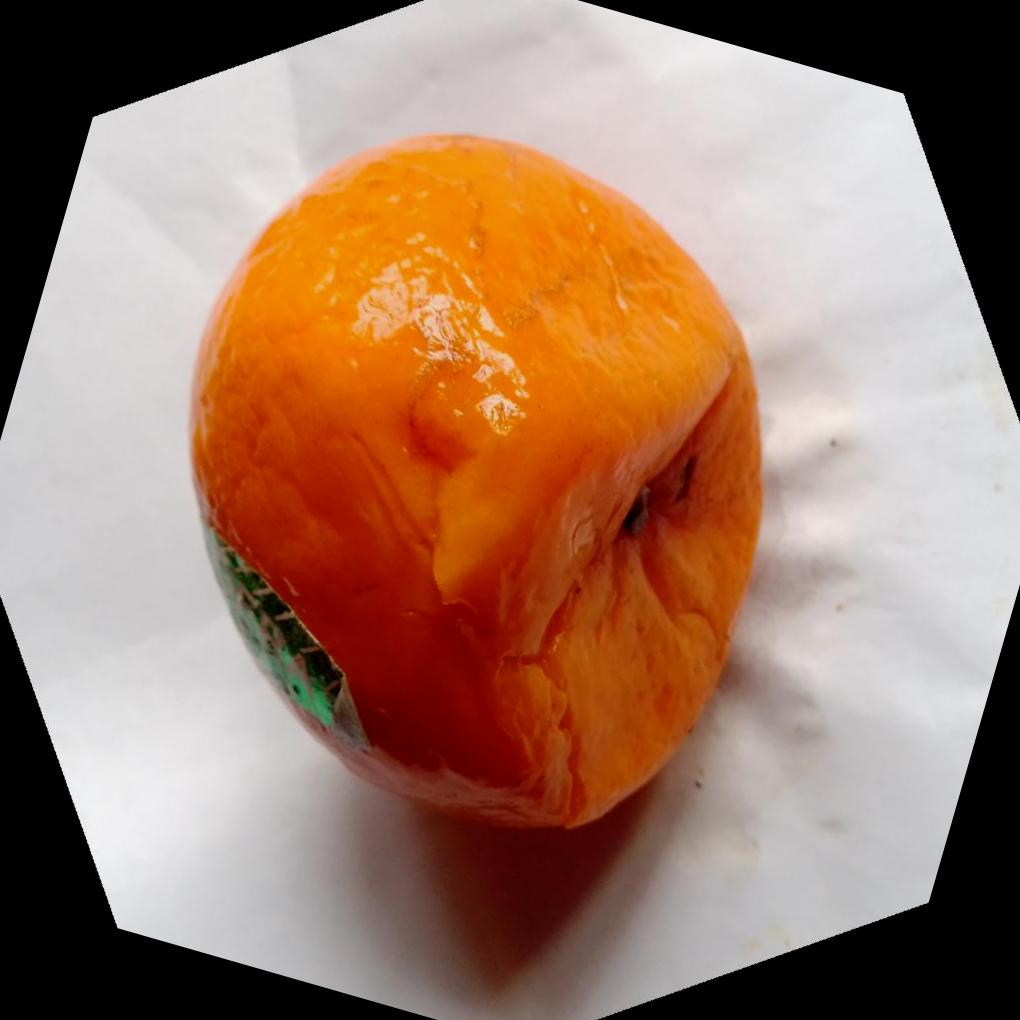FreshOrange: (190, 132, 769, 834)
